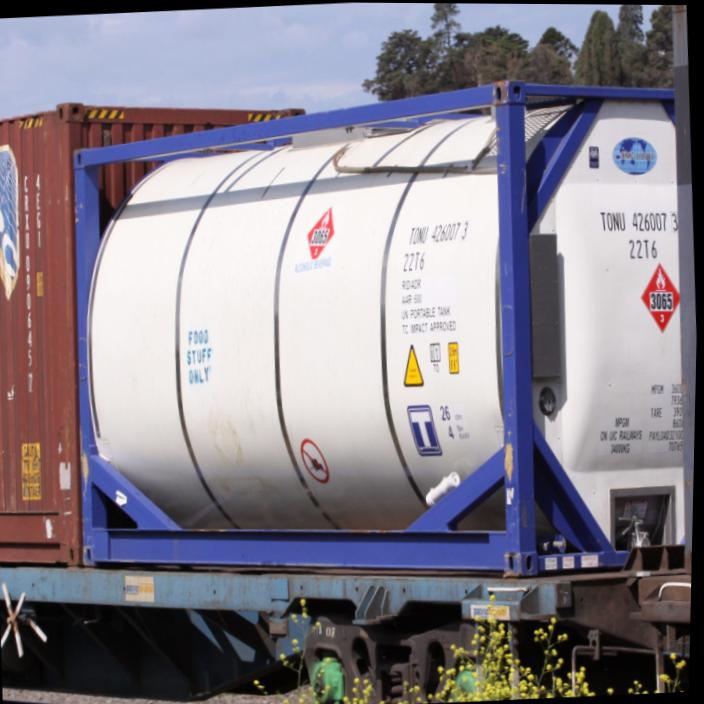can and bottle trash cans: (641, 263, 678, 331), (307, 207, 332, 258)
